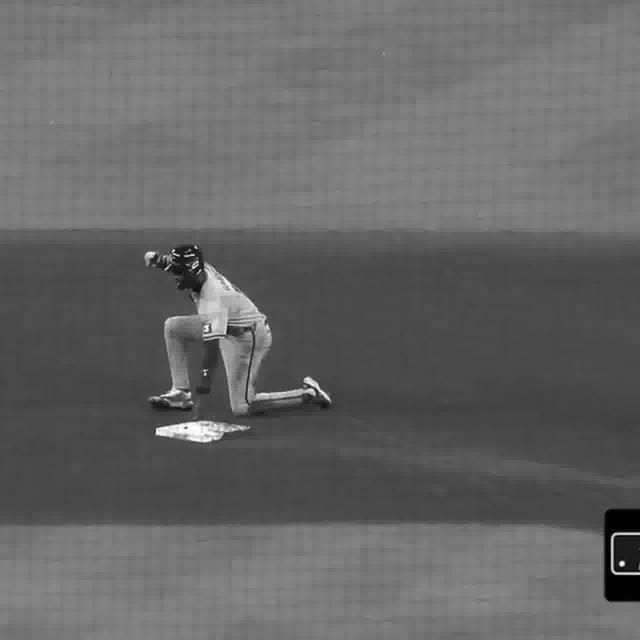base: (154, 423, 252, 447)
shoe: (148, 386, 194, 406), (303, 376, 335, 404)
